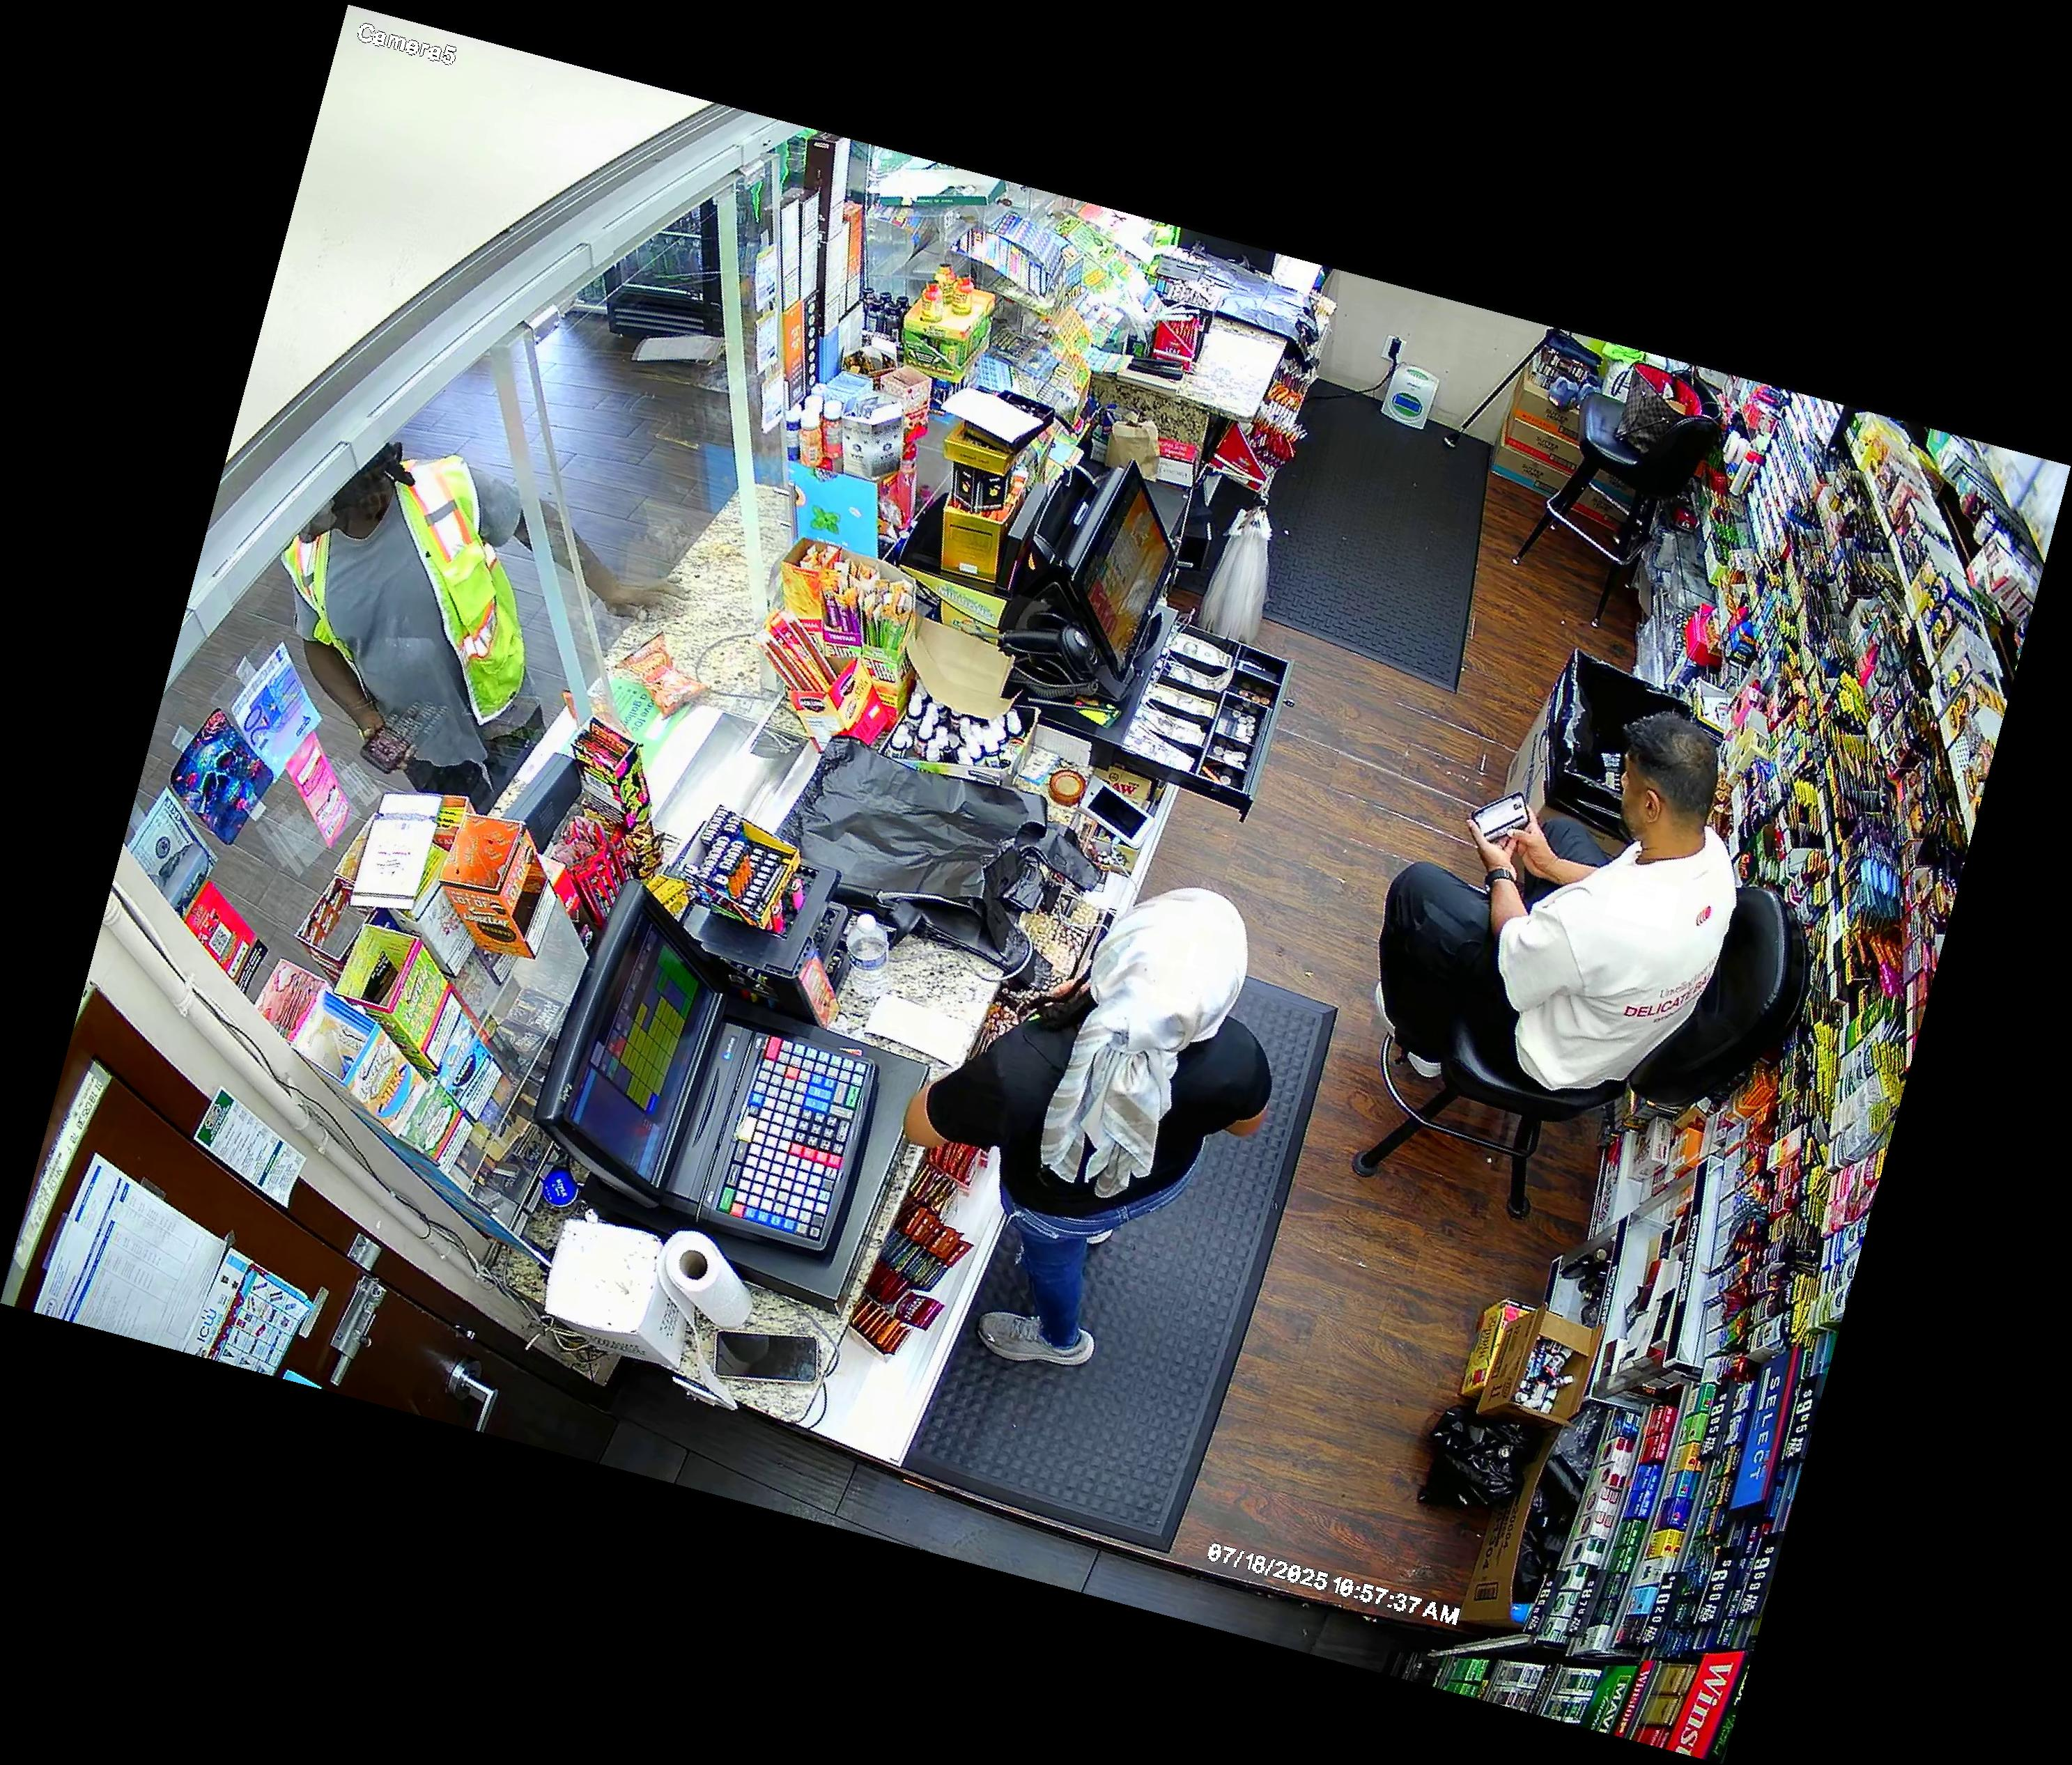phone: (1455, 784, 1538, 851), (352, 699, 420, 777)
